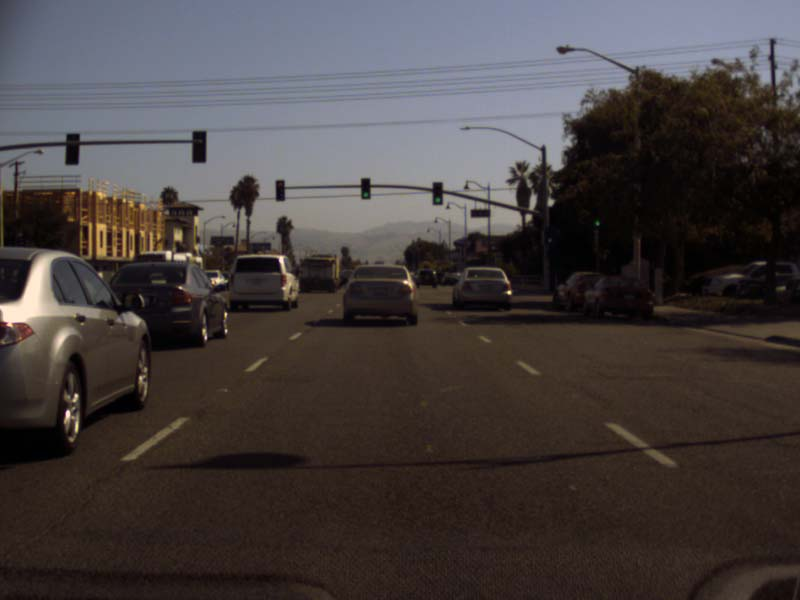Green: (432, 181, 442, 204), (361, 178, 370, 199), (546, 228, 552, 245)
Red: (275, 179, 285, 202)
